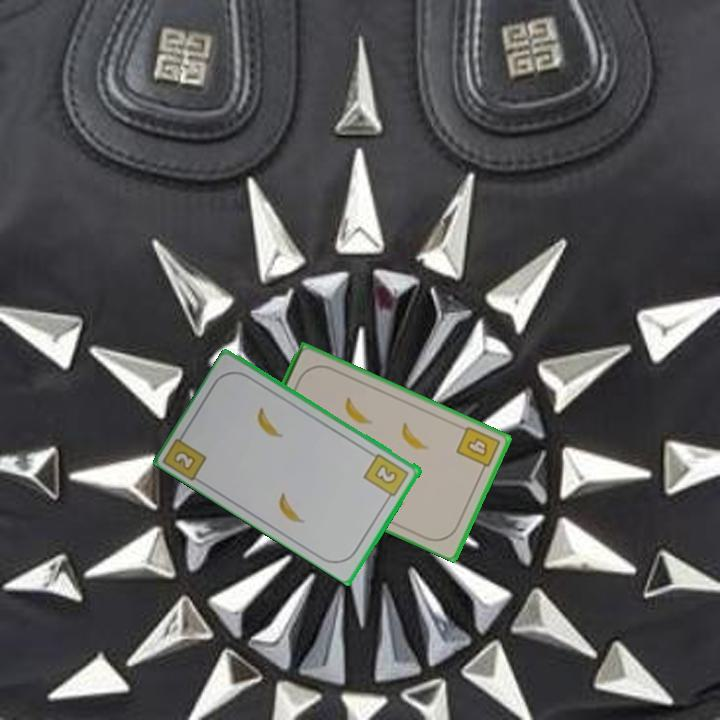2b: (361, 450, 412, 504), (170, 447, 199, 473)
4b: (453, 422, 503, 476)
